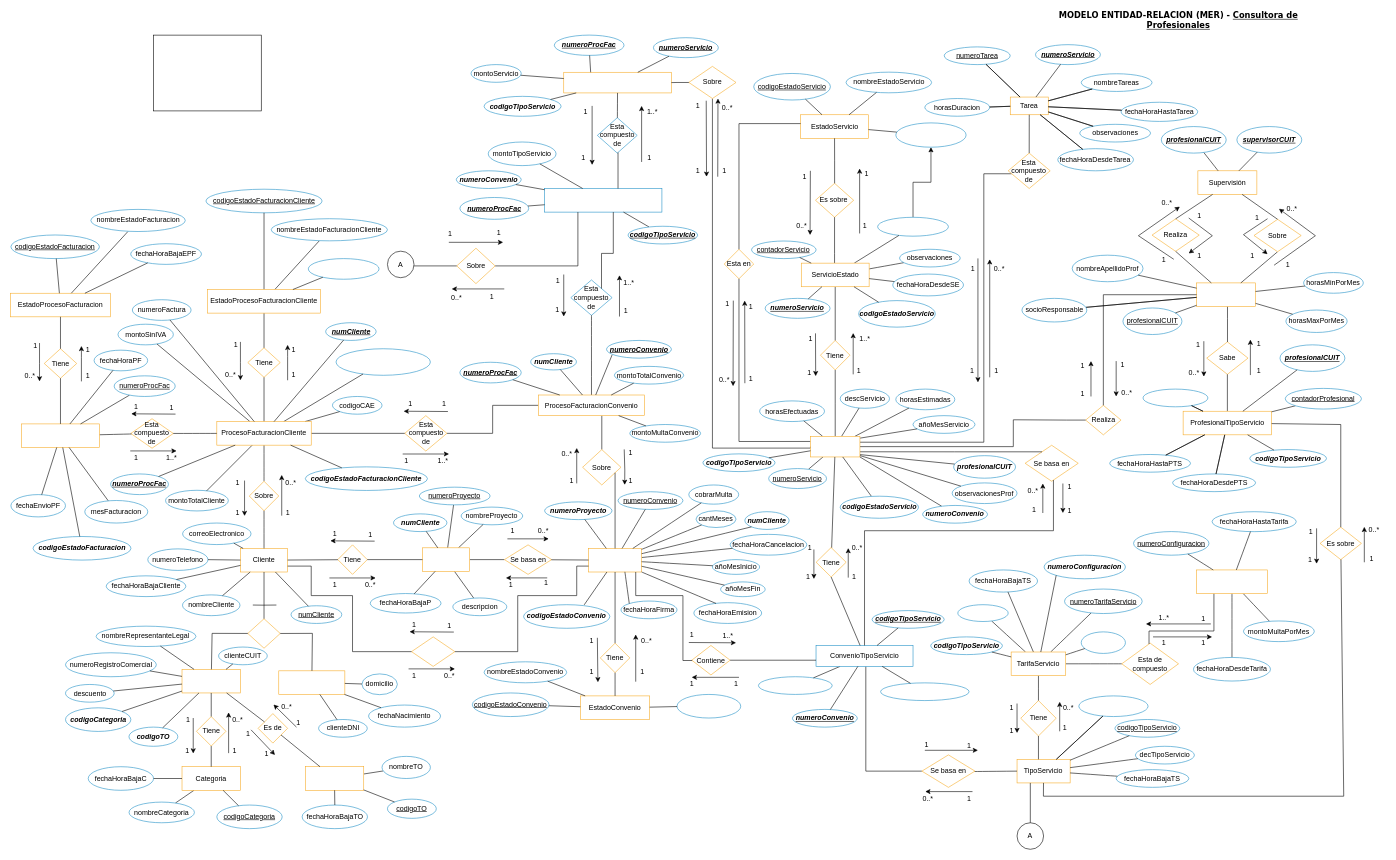
The diagram is 1396 pixels wide and 860 high, and some of its shapes have lost their labels. The centre of each missing label's shape, as x and y in pixels:
Acuerdo: the point at 433,651
ClienteFísico: the point at 311,682
ClienteJuridico: the point at 210,681
ConfiguracionTarifa: the point at 1231,581
Convenio: the point at 615,560
fechaHoraBajaCTS: the point at 795,685
fechaHoraBajaEC: the point at 708,706
fechaHoraBajaEPFC: the point at 343,268
fechaHoraBajaES: the point at 930,134
fechaHoraFacturacionCliente: the point at 382,361
fechaHoraHastaSE: the point at 912,226
horasMinimasPorServicio: the point at 924,691
montoHonorario: the point at 1175,398
nombreTipoServicio: the point at 1113,706
ProcesoFacturacion: the point at 60,435
ProcesoFacturaciónServicio: the point at 617,82
ProcesoFacturaciónTipoServicio: the point at 603,200
Profesional: the point at 1226,294
Proyecto: the point at 446,559
REFERENCIAS Foreign Key Primary Key PK FK: the point at 207,73
Servicio: the point at 835,446
tarifaFija: the point at 1103,642
tarifaPorHora: the point at 982,613
TipoOrganizacion: the point at 334,778
